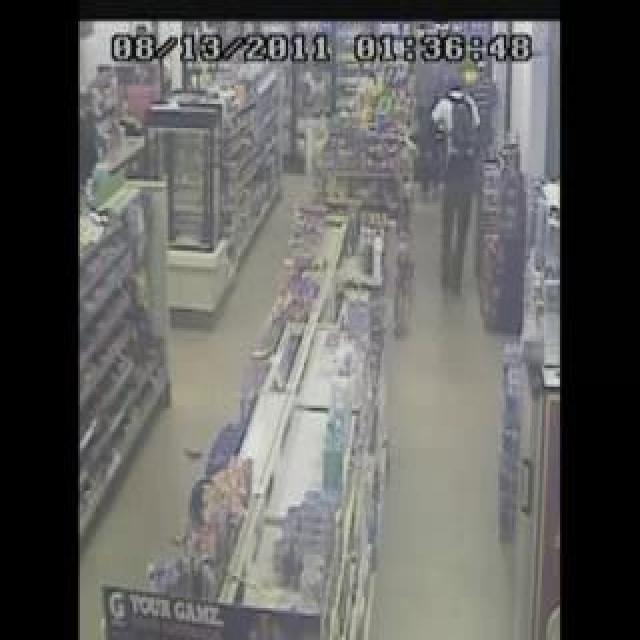thief: (421, 67, 487, 173)
